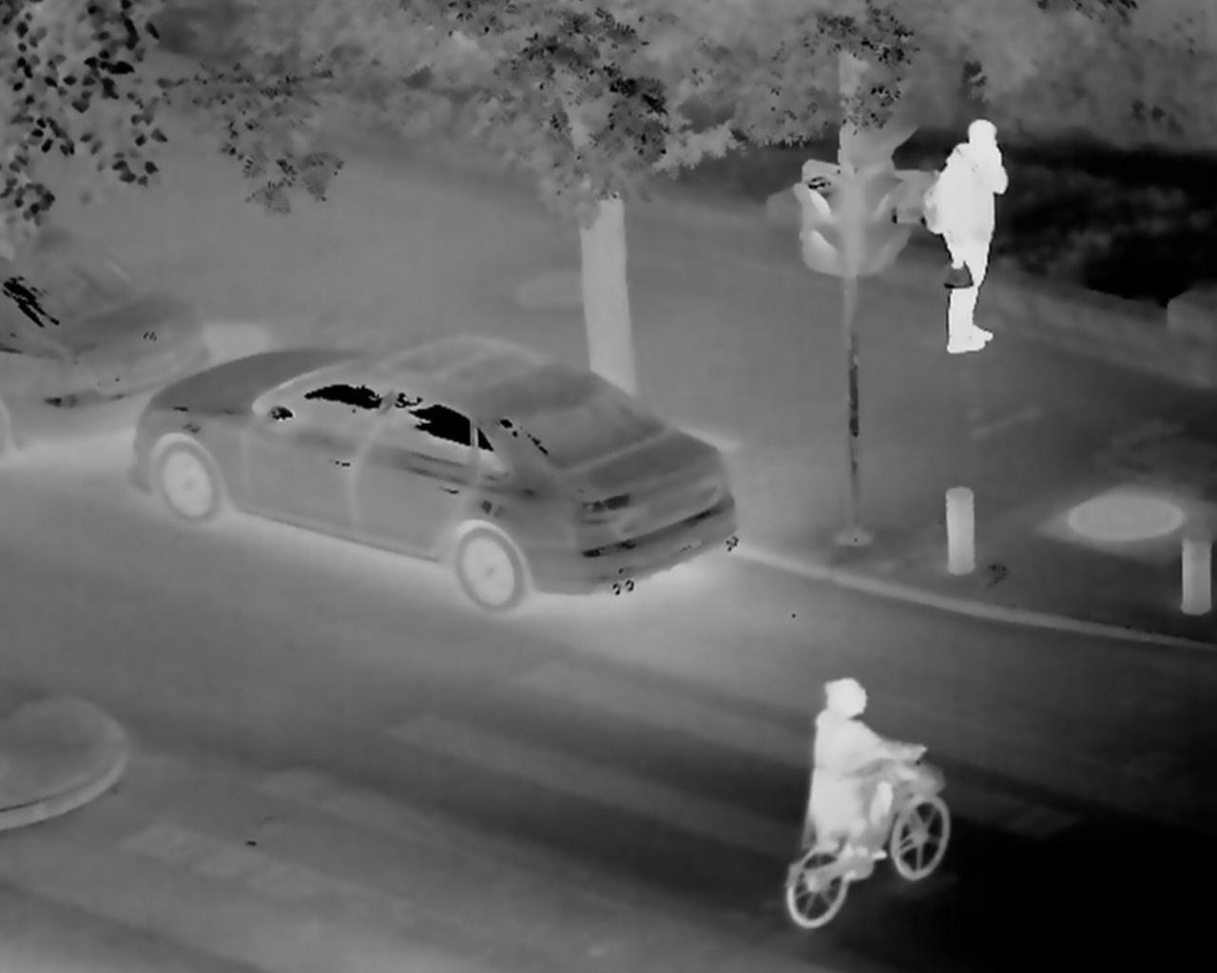person: (798, 673, 930, 882), (918, 119, 1021, 360)
